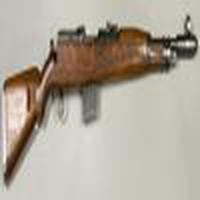gun: (4, 23, 197, 181)
